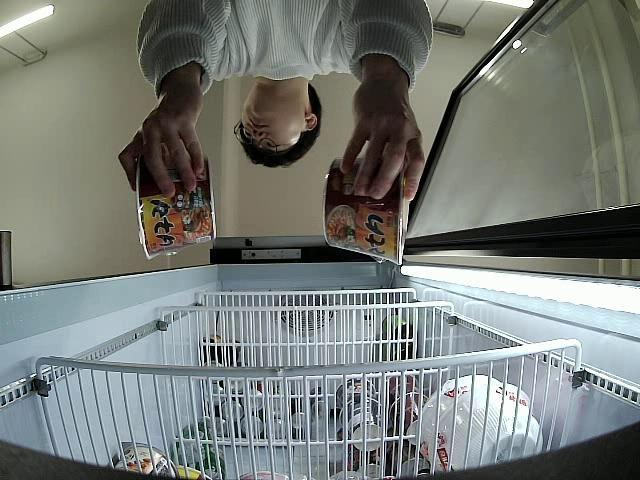05_nuguri_L: (322, 155, 410, 268), (134, 153, 218, 260)
